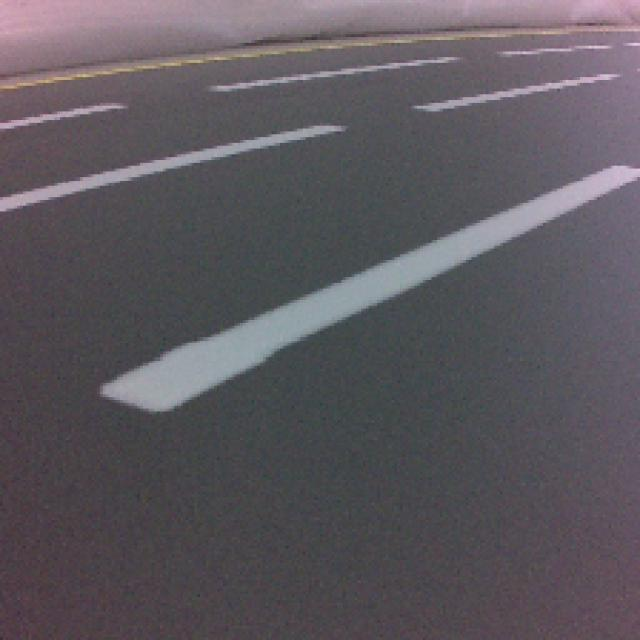Road: (4, 344, 640, 640)
